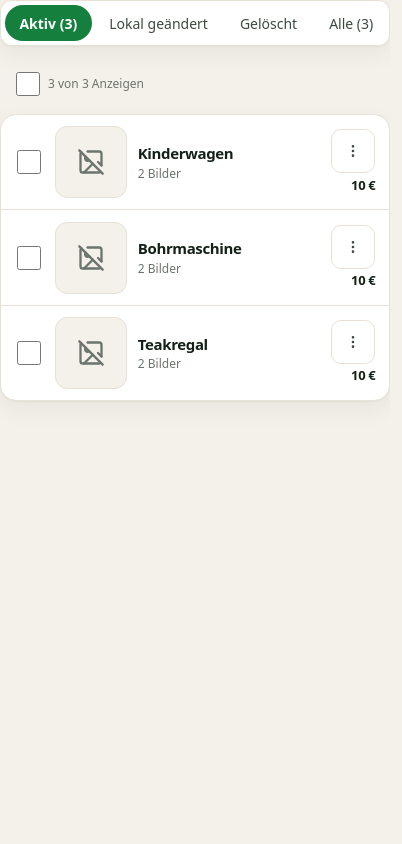
Test case: Weitere Sammelaktionen › zeigt die Sammelaktionen unter md als eine fixe Leiste unten
Expected: the text "Kinderwagen" is shown, [138, 143, 233, 163]
What coordinates should you click on to do the following:
click the checkbox named "„Kinderwagen\" auswählen"
I would click on:
 (29, 162)
Its box is [17, 150, 41, 174].
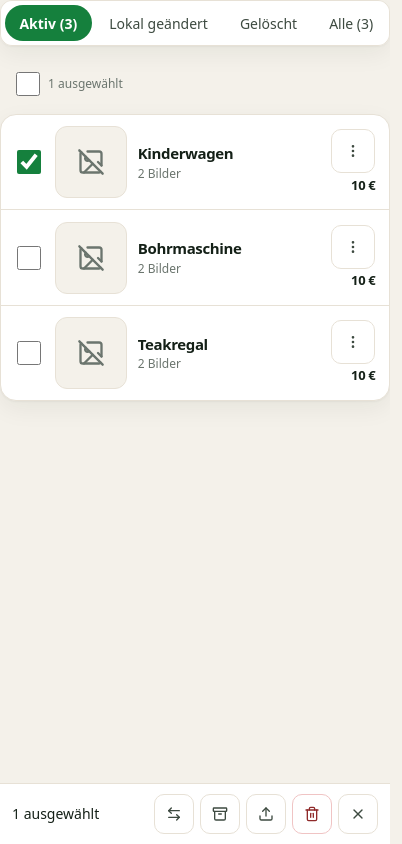
Expected: the element named "Sammelaktionen" is shown, [0, 783, 390, 843]
Expected: the button named "Lokal löschen" is shown, [292, 794, 332, 834]
